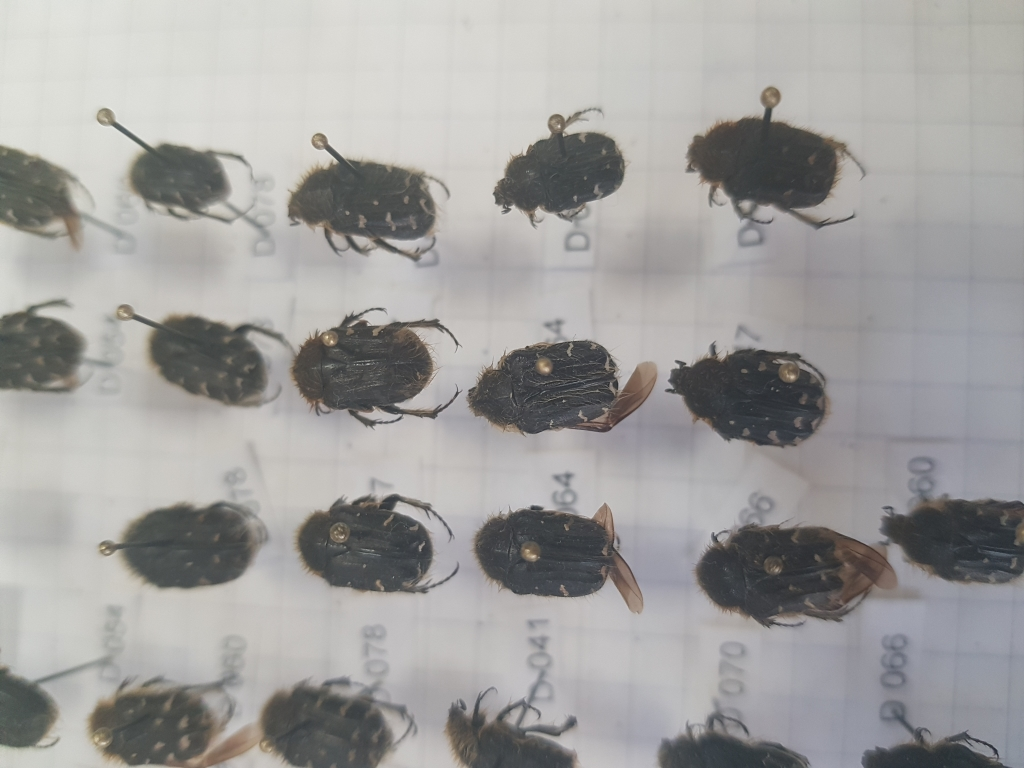Tropinota_hirta: (455, 304, 668, 448), (292, 291, 467, 433), (670, 325, 837, 445)
